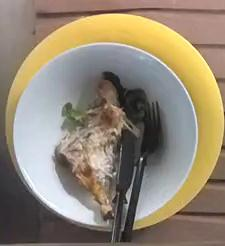chicken: (56, 75, 131, 216)
